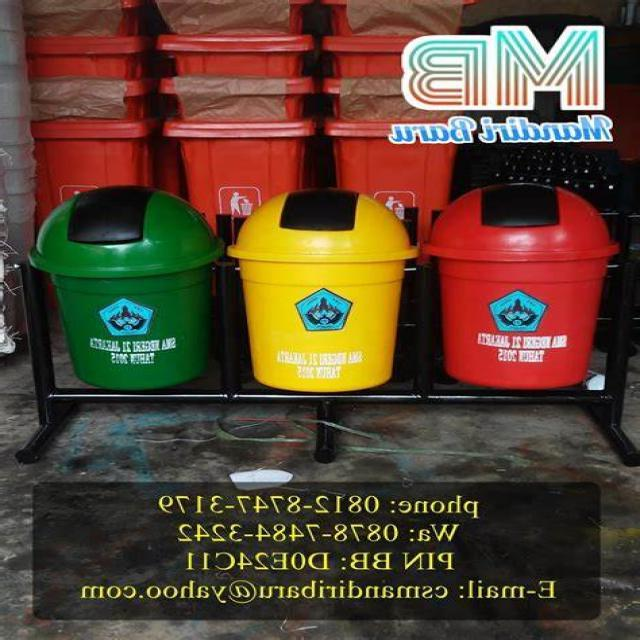garbage container: (14, 136, 220, 444), (404, 162, 620, 416), (224, 168, 402, 404)
